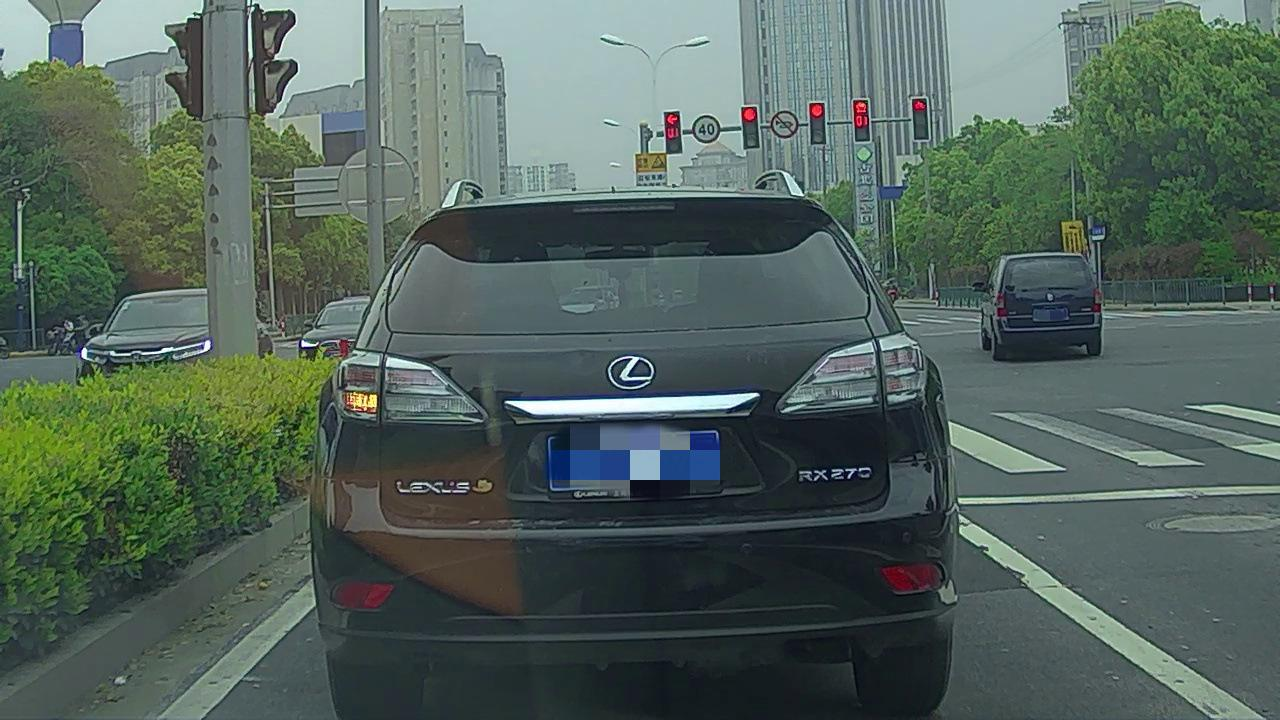traffic_light: (664, 112, 682, 155), (853, 99, 871, 142), (741, 105, 758, 149), (913, 97, 929, 140), (810, 102, 825, 145)
